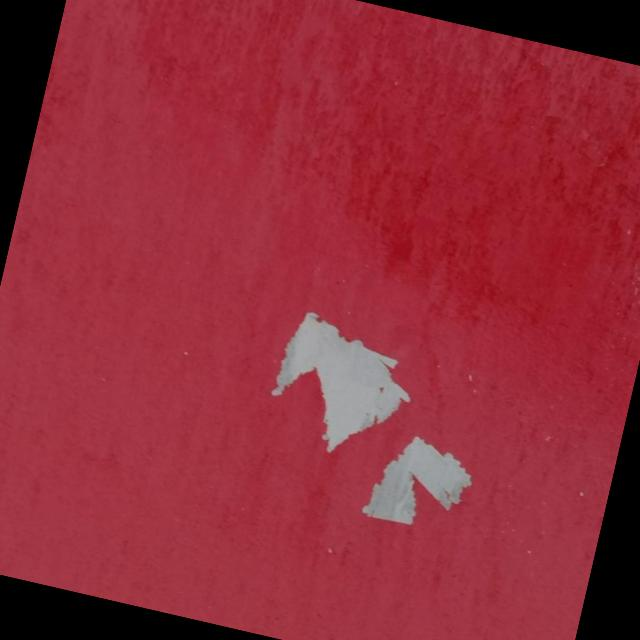surface_peeling: (262, 304, 426, 466), (356, 426, 486, 541)
